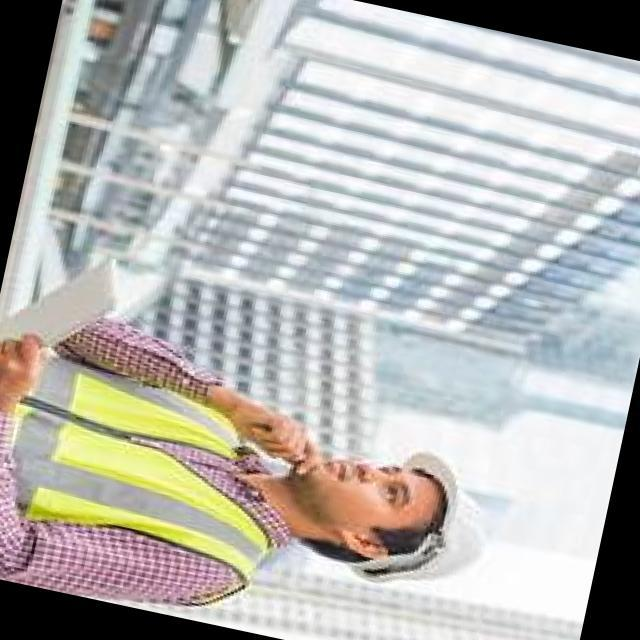not-gloved: (222, 396, 338, 474), (0, 324, 55, 425)
